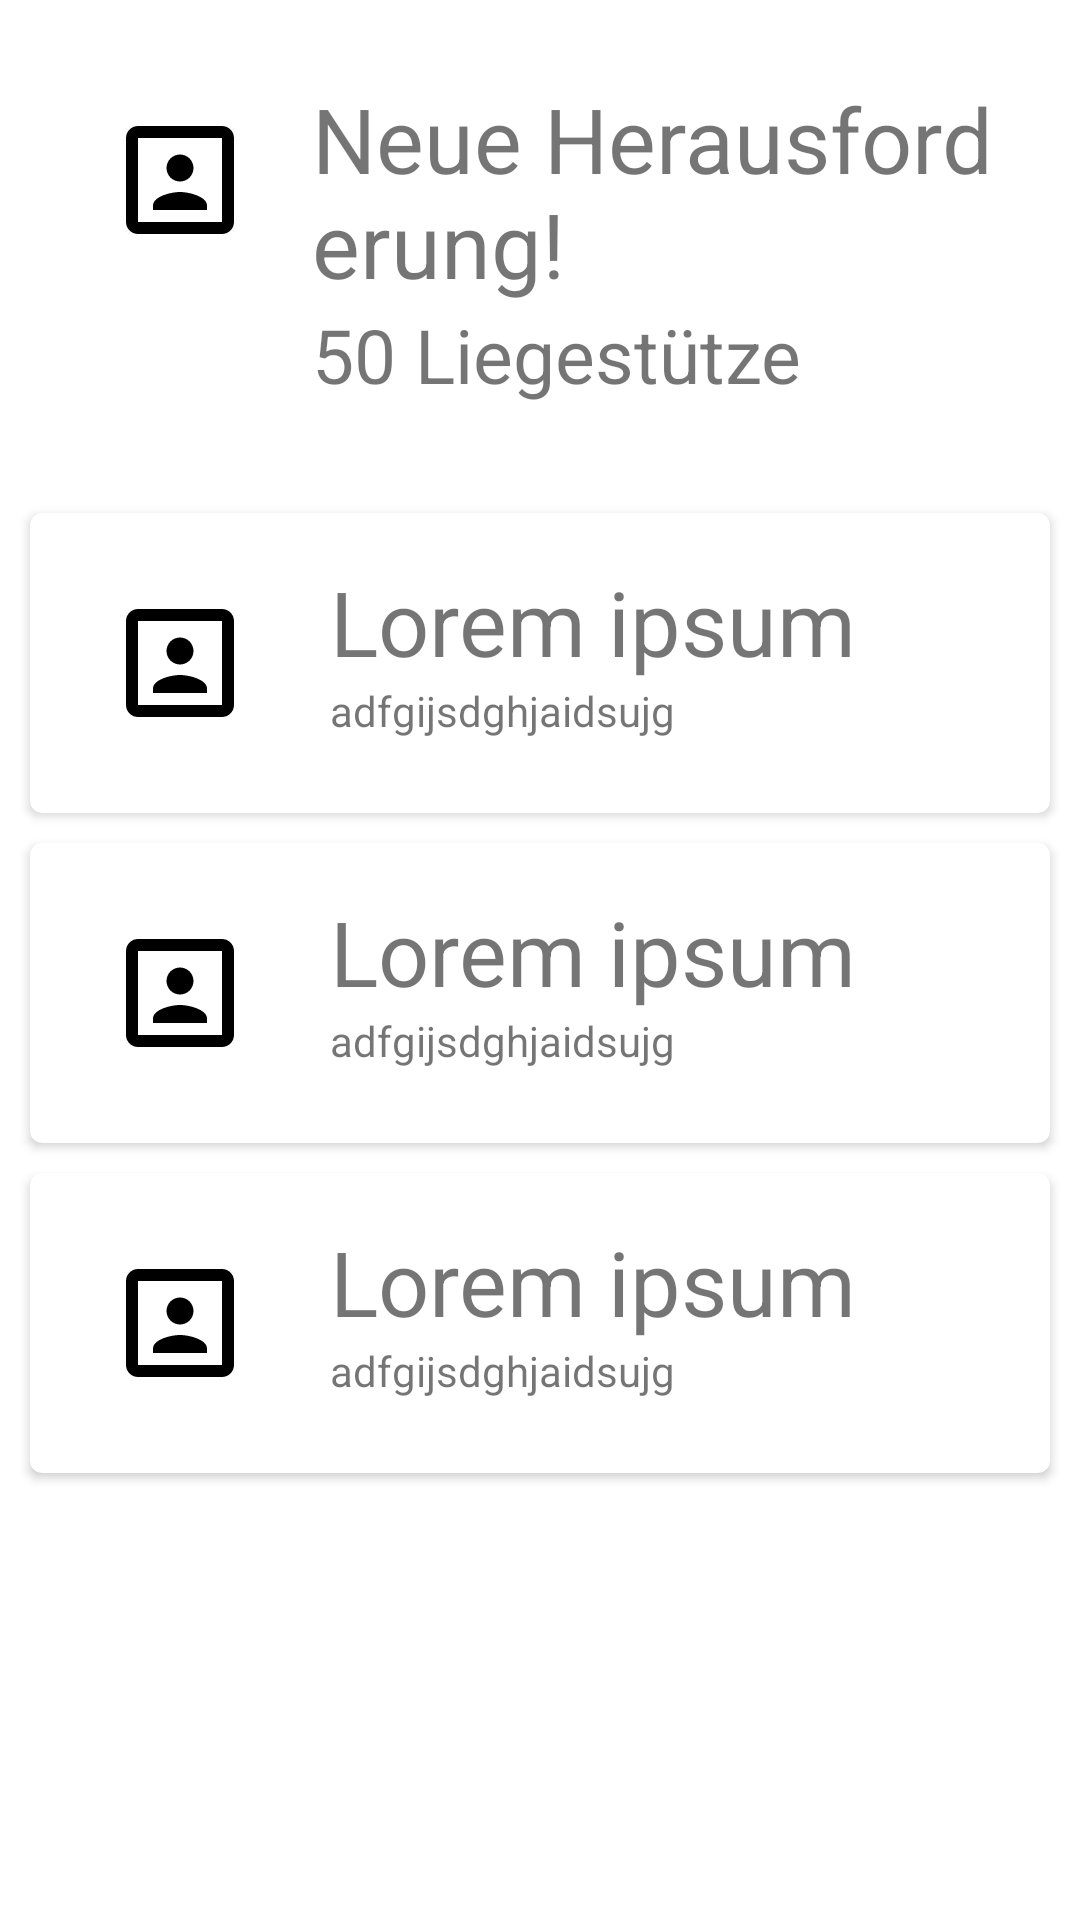

Screen size 1080 x 1920. Icon name, then its center in pixels as (x=x, y=y):
portrait: (x=180, y=180), (x=180, y=663), (x=180, y=993), (x=180, y=1323)
